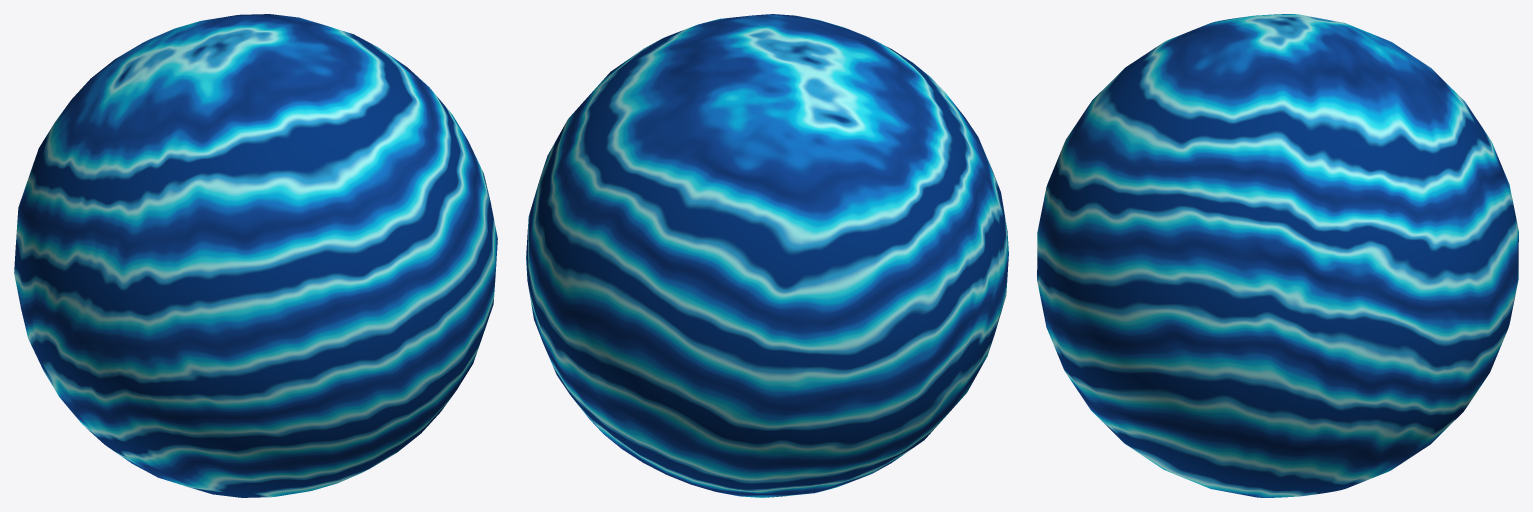
The model's file is ball_oceanCurrent.gltf.
3 renders of one model, left to right at view 1: azimuth 30°, elevation 25°; view 2: azimuth 150°, elevation 25°; view 3: azimuth 270°, elevation 25°, orthographic.
Visible parts, largest first — view 1: oceanCurrent; view 2: oceanCurrent; view 3: oceanCurrent.
Part boxes in pixels (<box>): oceanCurrent: <box>14,14,497,497</box>; oceanCurrent: <box>526,14,1008,497</box>; oceanCurrent: <box>1037,14,1518,497</box>.
Bounding box in the file's own units: 0.2487 × 0.2499 × 0.2483.
1 material, 1 textured.
